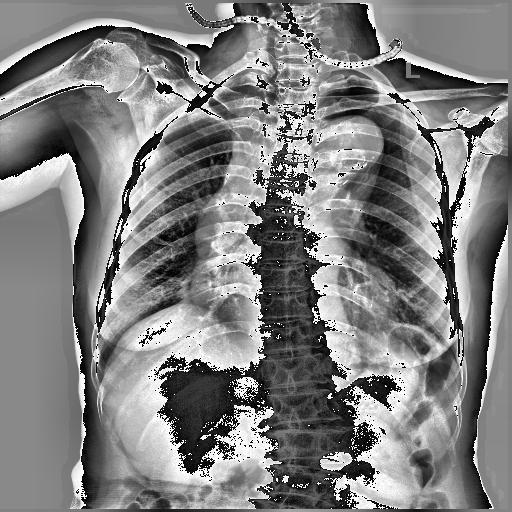0- Aortic enlargement: (314, 114, 386, 218), (318, 118, 382, 186), (320, 114, 384, 160)
3- Cardiomegaly: (186, 260, 394, 332), (191, 258, 397, 322), (188, 278, 400, 337)
